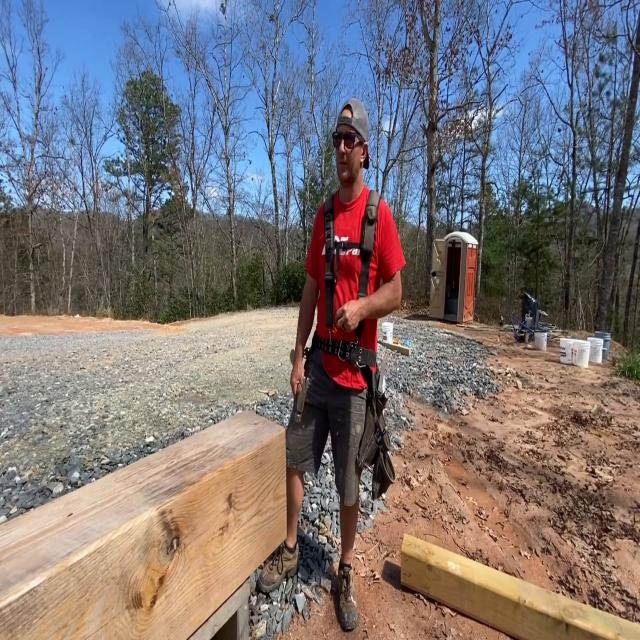hammer: (290, 348, 309, 422)
